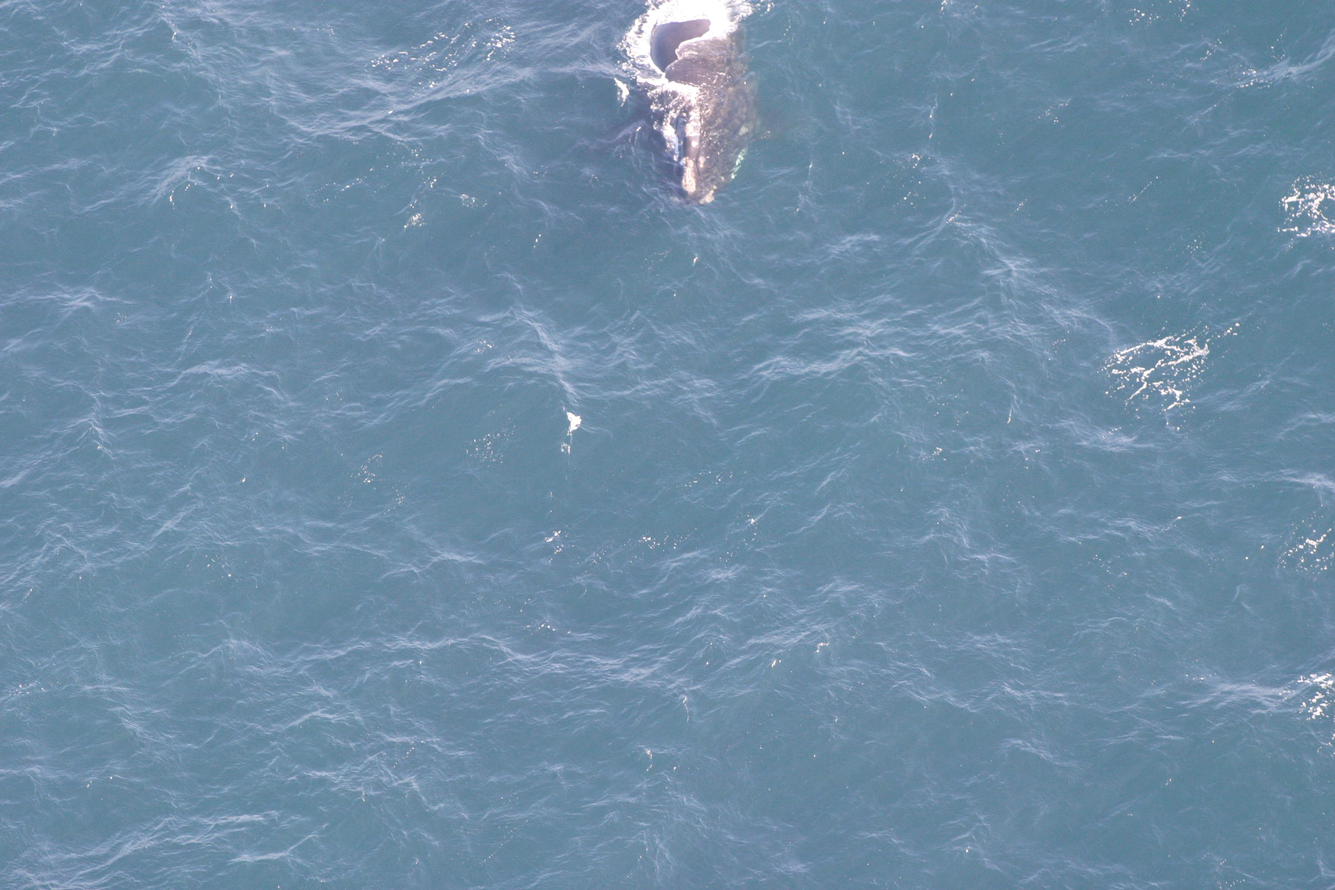whale: (574, 0, 834, 215)
